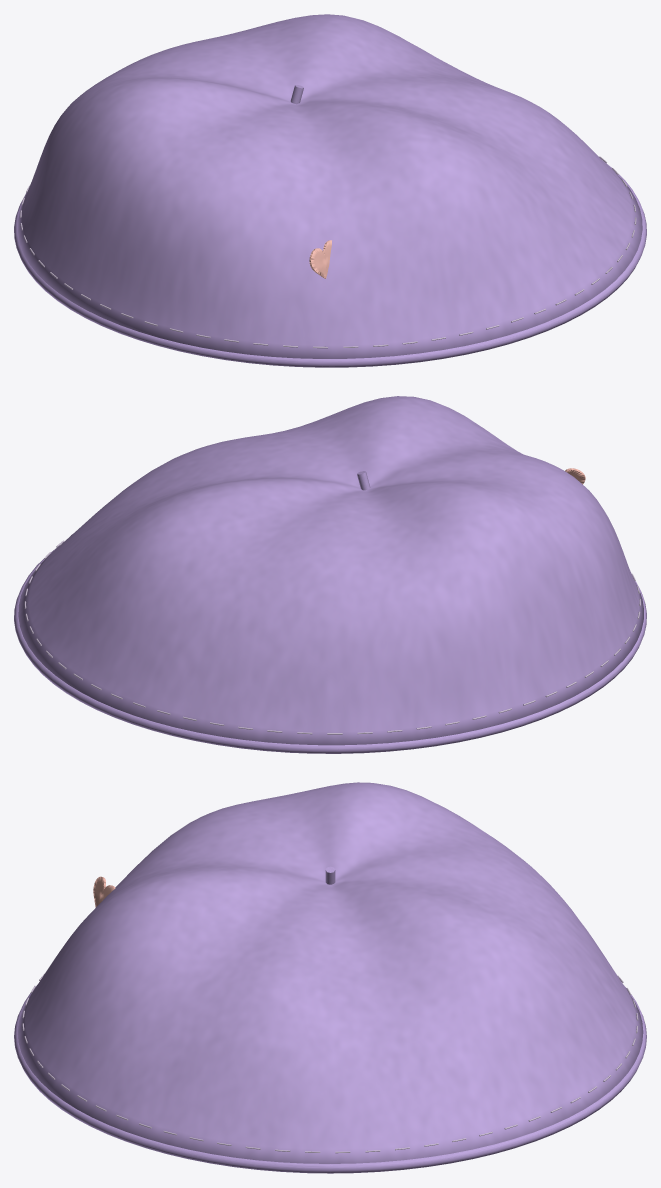
The model's file is restart_headfinish_beret_chic_chick.glb.
3 views of the same model, one above another, from view 1: azimuth 30°, elevation 25°; view 2: azimuth 150°, elevation 25°; view 3: azimuth 270°, elevation 25° (orthographic).
Visible parts, largest first — view 1: Boina pequeña · fieltro con forro; view 2: Boina pequeña · fieltro con forro; view 3: Boina pequeña · fieltro con forro.
Boxes of the visible parts, left/top/right/bottom form: Boina pequeña · fieltro con forro: left=14, top=14, right=646, bottom=367; Boina pequeña · fieltro con forro: left=14, top=396, right=646, bottom=753; Boina pequeña · fieltro con forro: left=14, top=782, right=646, bottom=1173.
Size of the model in its own units: 0.4962 by 0.1526 by 0.4962.
3 materials, 2 textured.
